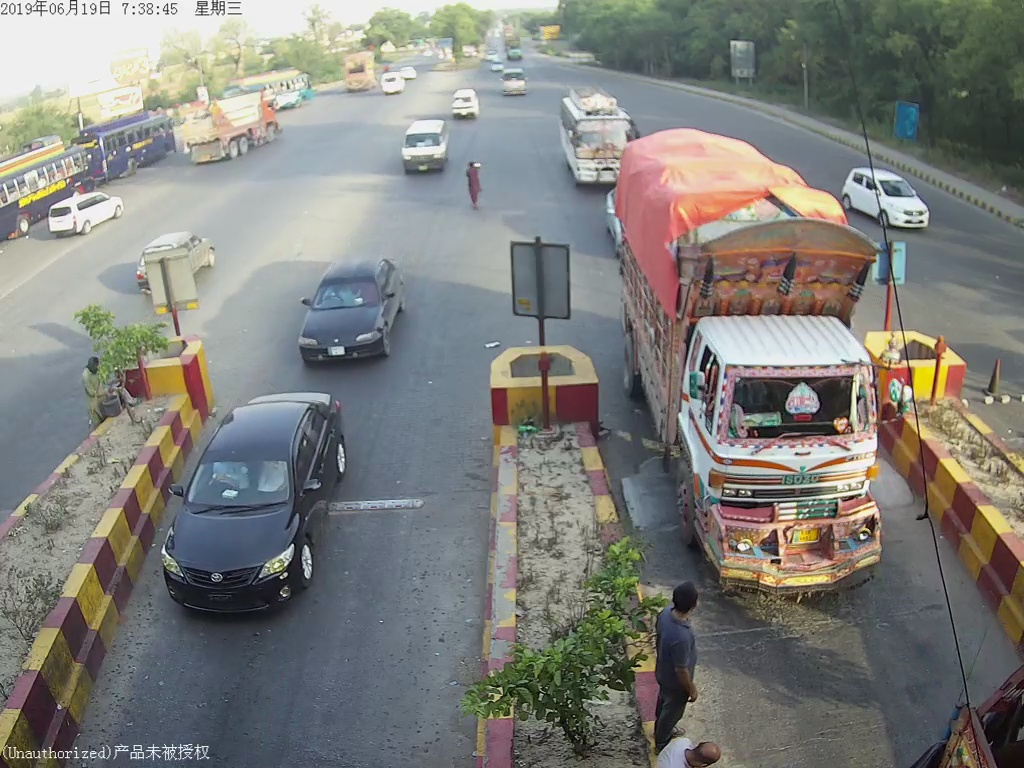Cat-1: (160, 396, 352, 612), (300, 260, 407, 363), (851, 163, 926, 233)
Cat-2: (396, 112, 448, 180)
Cat-3: (557, 83, 639, 190)
Cat-4: (631, 136, 895, 581)
